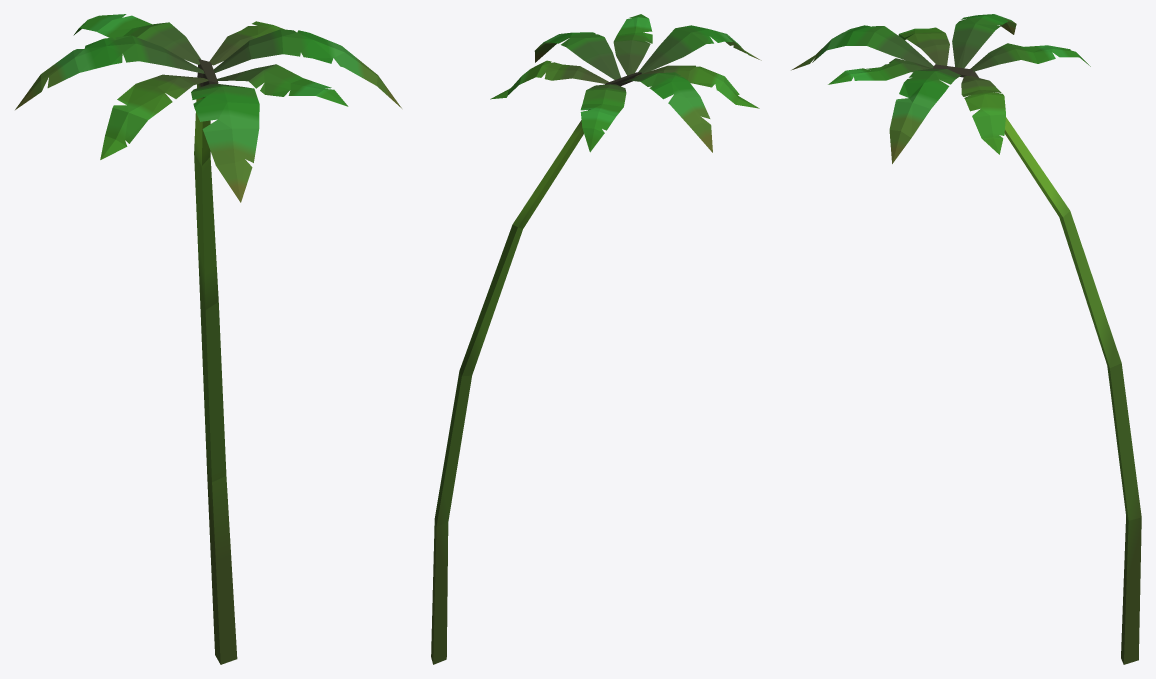
The model's file is um_scrub001.FBX.
3 views of the same model, side by side, from view 1: azimuth 30°, elevation 25°; view 2: azimuth 150°, elevation 25°; view 3: azimuth 270°, elevation 25° (orthographic). The views are drawn at different scales.
Visible parts, largest first — view 1: um_scrub001; view 2: um_scrub001; view 3: um_scrub001.
Part boxes in pixels (x1=…): um_scrub001: x1=15, y1=14, x2=401, y2=664; um_scrub001: x1=431, y1=14, x2=761, y2=664; um_scrub001: x1=791, y1=14, x2=1141, y2=664.
Bounding box in the file's own units: 1.7 × 3.85 × 2.17.
